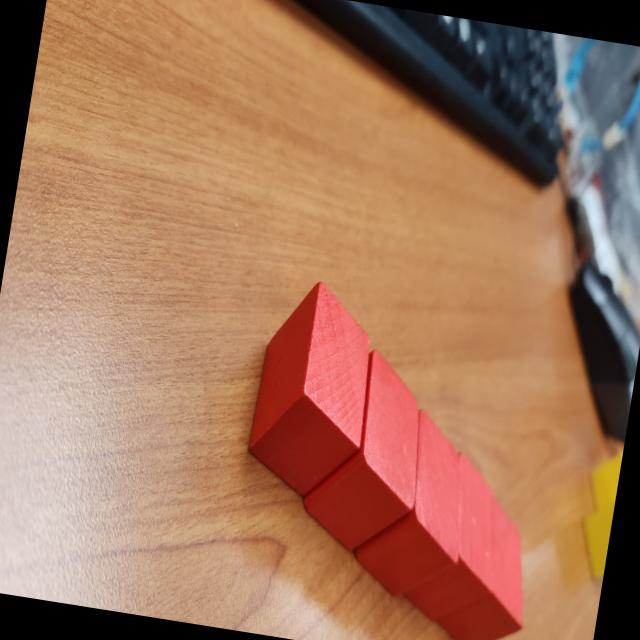red: (238, 270, 386, 505), (292, 340, 438, 562), (346, 400, 483, 608), (397, 446, 513, 632), (433, 486, 545, 640)
yellow: (574, 438, 624, 588)
